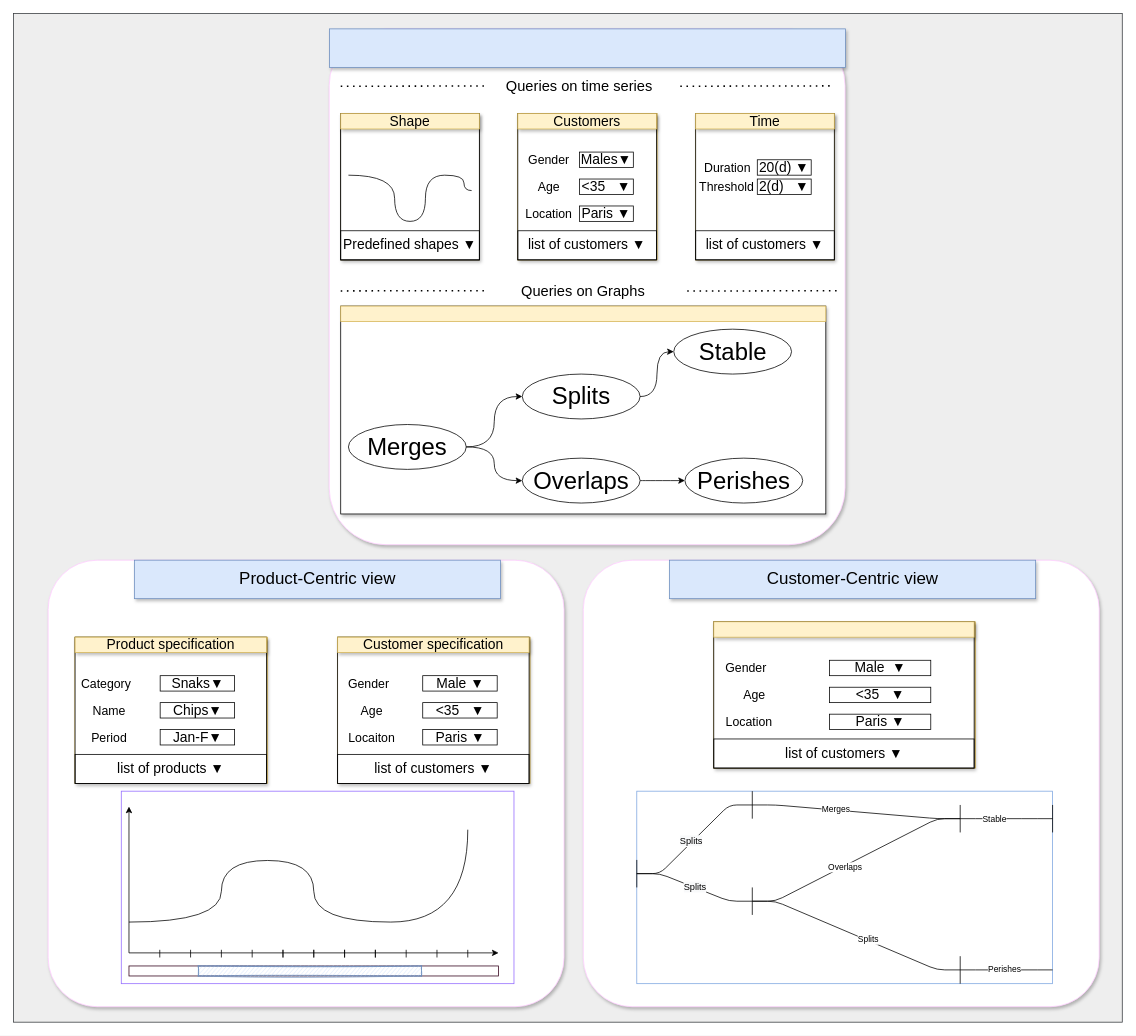
The diagram is 1136 pixels wide and 1036 high, and some of its shapes have lost their labels. The shapes that lost their labels are listed below. From the top down, each one's centre as x and y in pixels, then its label:
the point at 588,49: Querying Zone
the point at 583,313: Group Evolution
the point at 844,630: Customers specification
